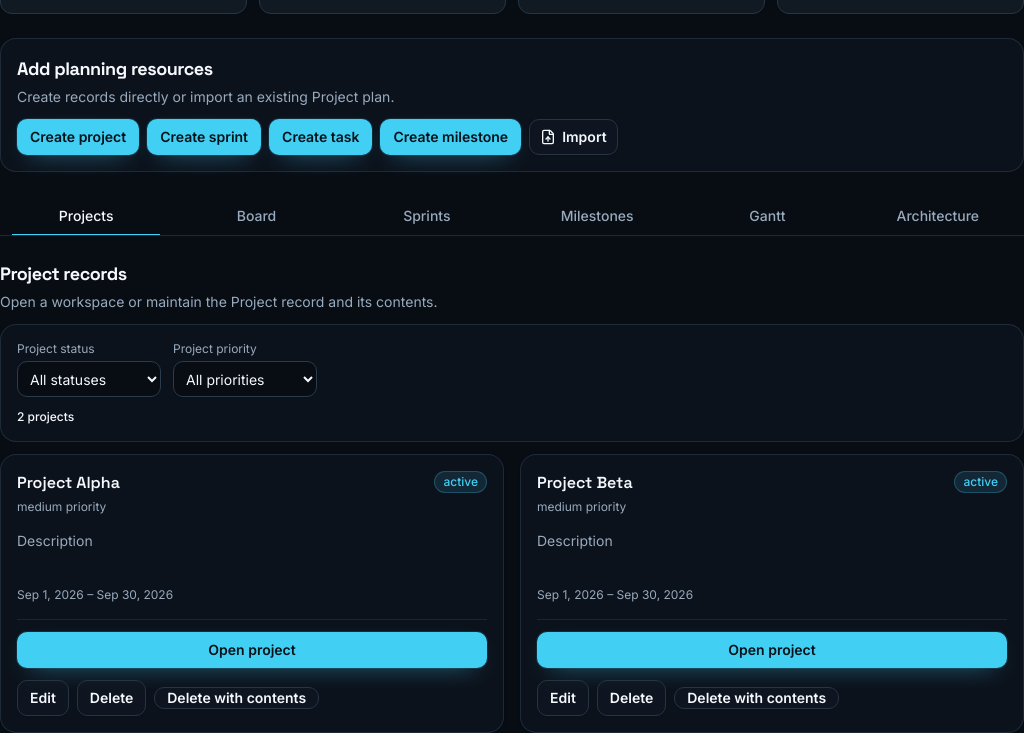
Scenario: Project workspace with mocked backend › opens a Project from the existing list and redirects to NOW without selecting a task
This screenshot has width=1024, height=733.
(page scrolled)
Click the link with aria-label "Open project: Project Alpha" at (252, 650), box x1=17 y1=632 x2=487 y2=668
(page scrolled)
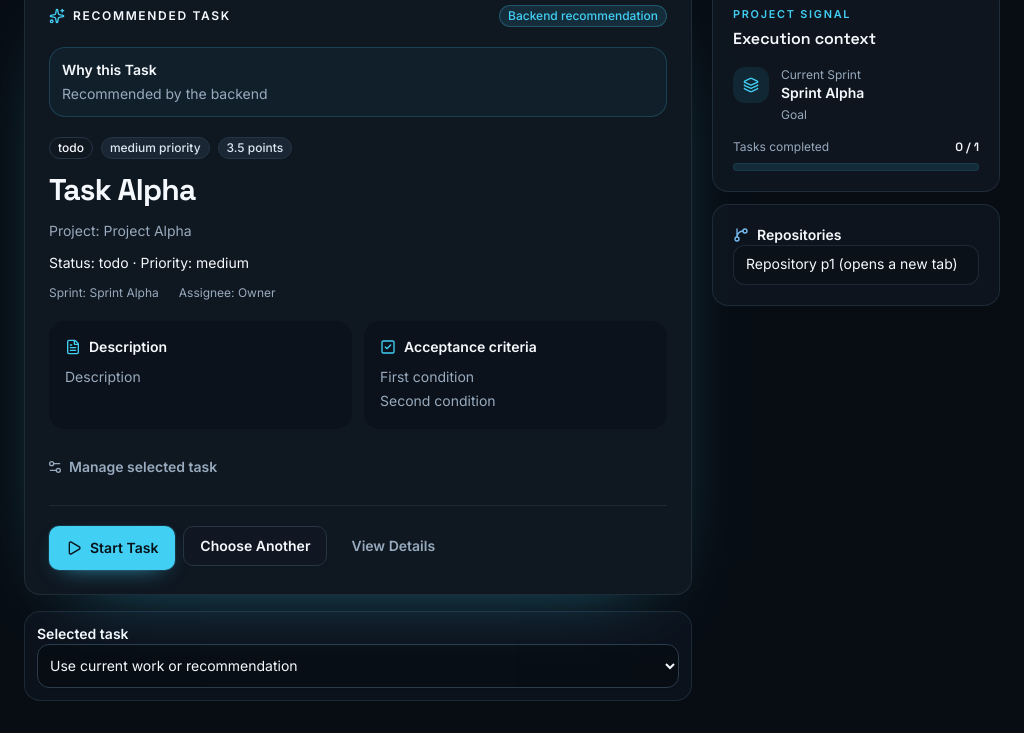
Expected: the dropdown labelled "Selected task" shows "Use current work or recommendation", x1=37 y1=644 x2=679 y2=688
